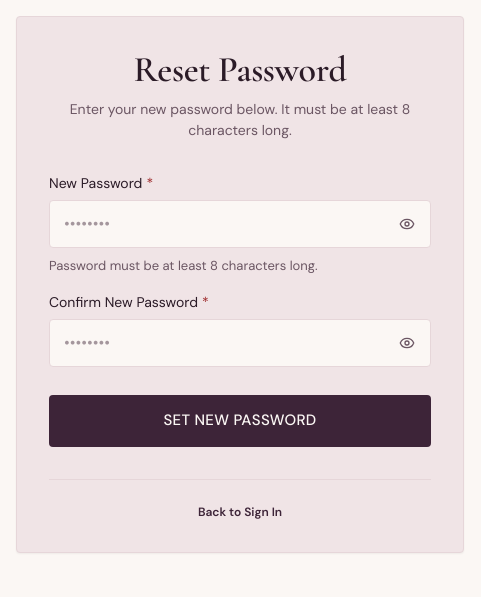
Test case: FE-26: Forgot and reset password › Reset Password Page › validates minimum 8 characters and matching passwords
Empty submission
Click the button with test id "reset-password-submit-btn": (240, 421) [49,395,431,447]
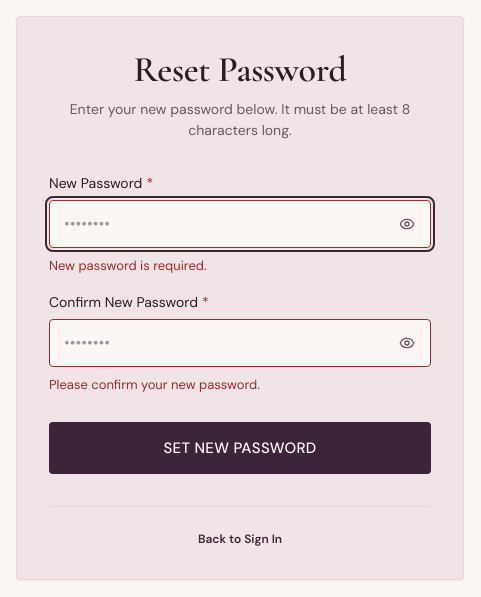
Check: the text "New password is required." is shown, box [49,256,206,276]
In the password field labelled "New Password*": (240, 224) [49,200,431,248], type "short"
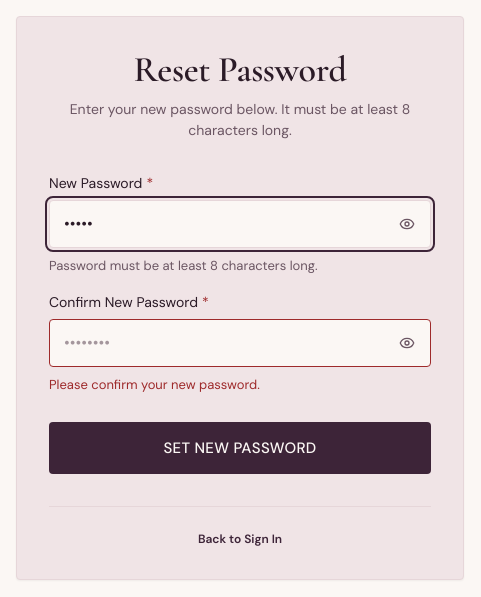
Click the button with test id "reset-password-submit-btn": (240, 448) [49,422,431,474]
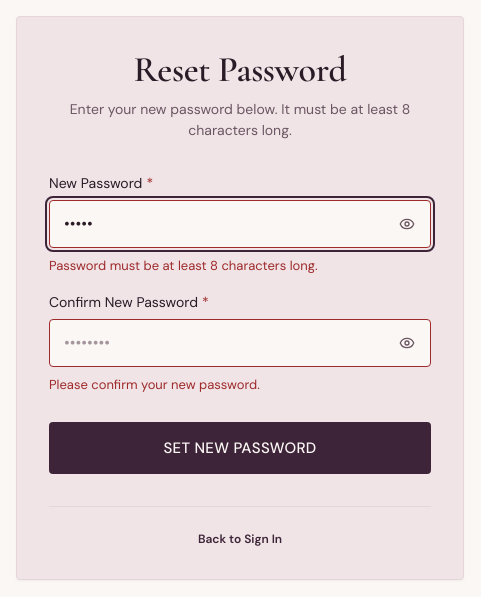
Check: the text "Password must be at least 8 characters long." is shown, box [49,256,318,276]
Confirm password empty or mismatch
In the password field labelled "New Password*": (240, 224) [49,200,431,248], type "StrongPassword123"
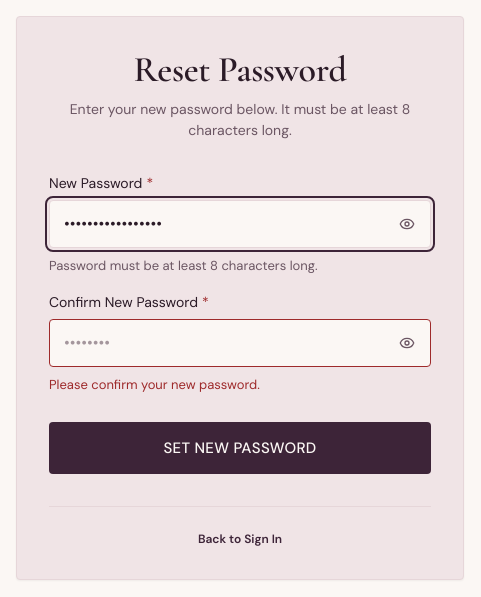
In the password field labelled "Confirm New Password*": (240, 343) [49,319,431,367], type "DifferentPassword456"
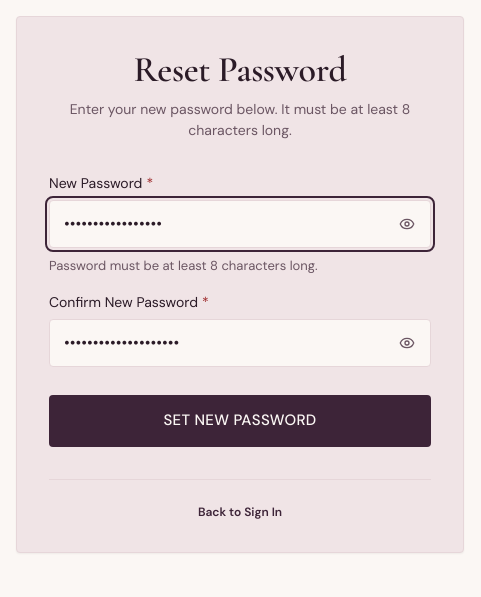
Click the button with test id "reset-password-submit-btn": (240, 421) [49,395,431,447]
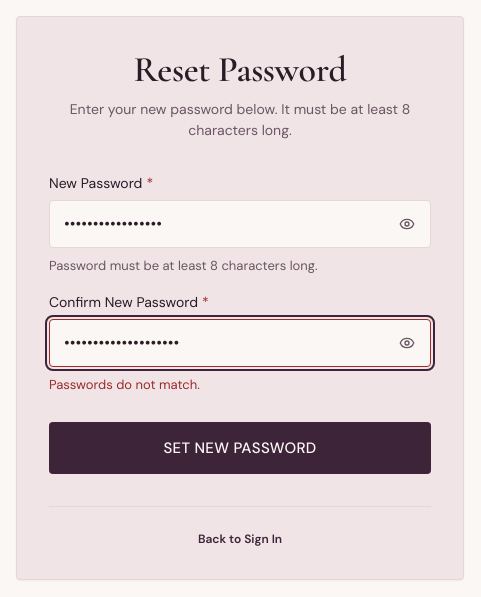
Check: the text "Passwords do not match." is shown, box [49,375,200,394]
